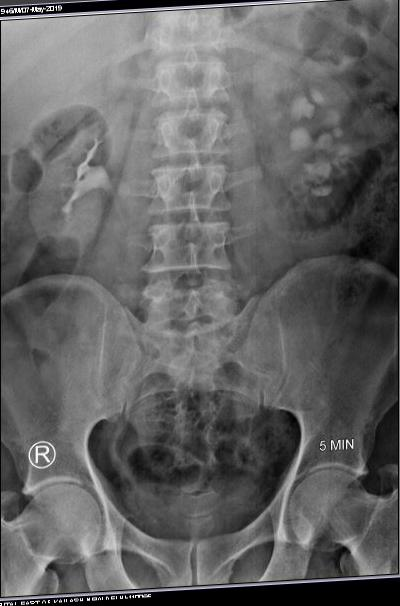right kidney: (24, 99, 134, 266)
